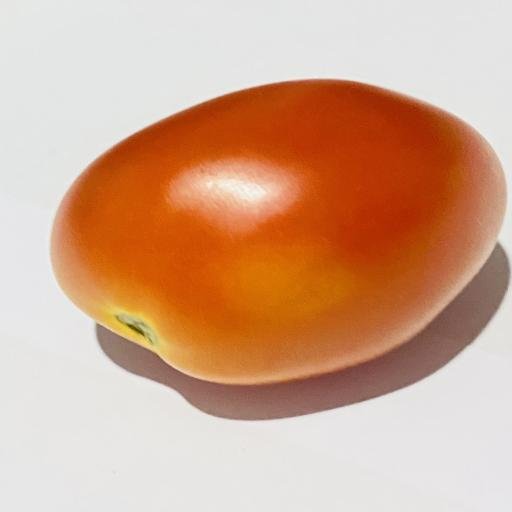ripe: (51, 80, 506, 384)
